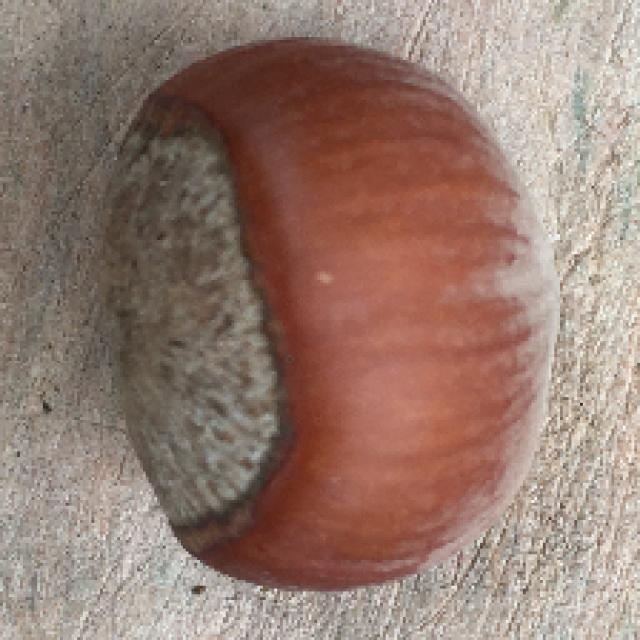QualityHazelnut: (102, 39, 563, 593)
